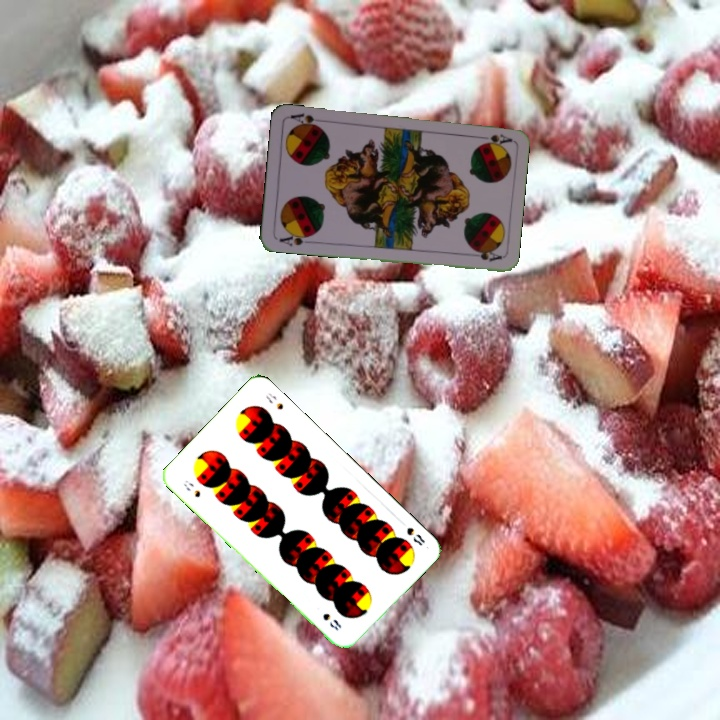S8: (396, 516, 427, 548), (179, 476, 203, 500)
SA: (275, 229, 315, 249), (473, 129, 514, 147)
